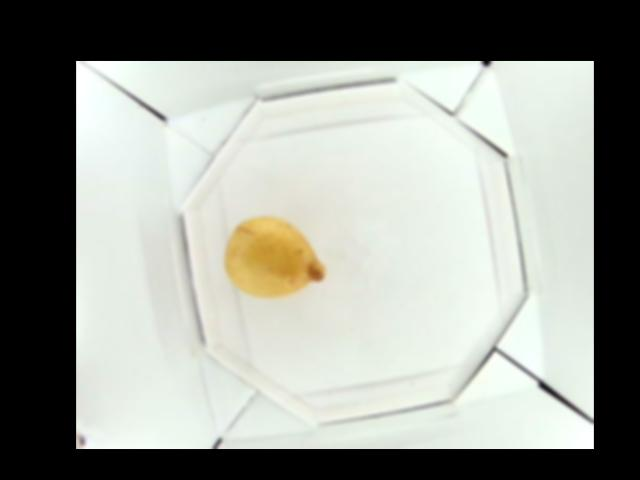Potato: (225, 216, 328, 301)
